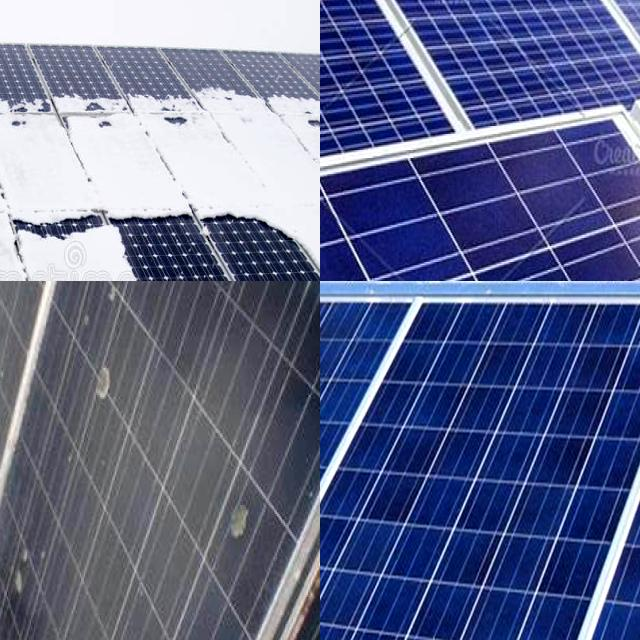crack: (320, 281, 640, 640), (320, 110, 640, 281), (376, 0, 640, 151)
dust: (61, 281, 129, 452), (190, 480, 288, 541), (226, 281, 320, 344), (108, 281, 196, 327), (9, 535, 56, 611), (0, 449, 27, 568), (0, 281, 31, 374), (0, 281, 64, 309)
panel: (104, 80, 242, 224), (250, 73, 320, 263), (0, 94, 98, 229), (15, 203, 120, 280), (0, 169, 66, 225), (110, 239, 167, 281), (0, 184, 25, 274), (0, 232, 26, 281)
